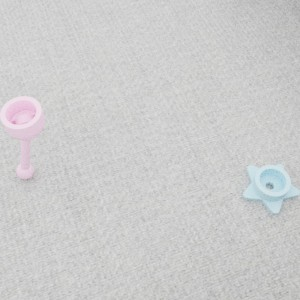lego: (0, 96, 44, 179), (242, 163, 300, 214)
